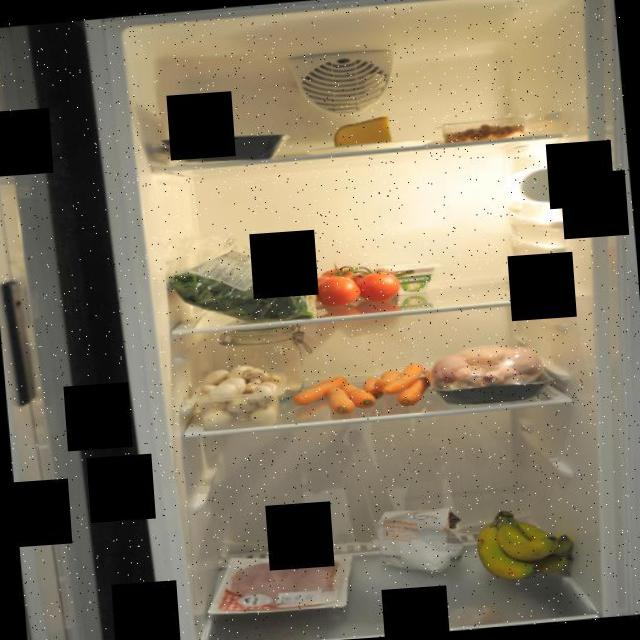Carne cerdo: (217, 553, 345, 615)
Carne pollo: (424, 336, 553, 408)
Champiñones: (182, 360, 302, 438)
Gambas/Langostinos: (438, 119, 529, 145)
Plátano: (471, 506, 574, 584)
Queso: (330, 114, 397, 150)
Tomate: (304, 253, 404, 312)
Zanahoria: (289, 359, 435, 420)
